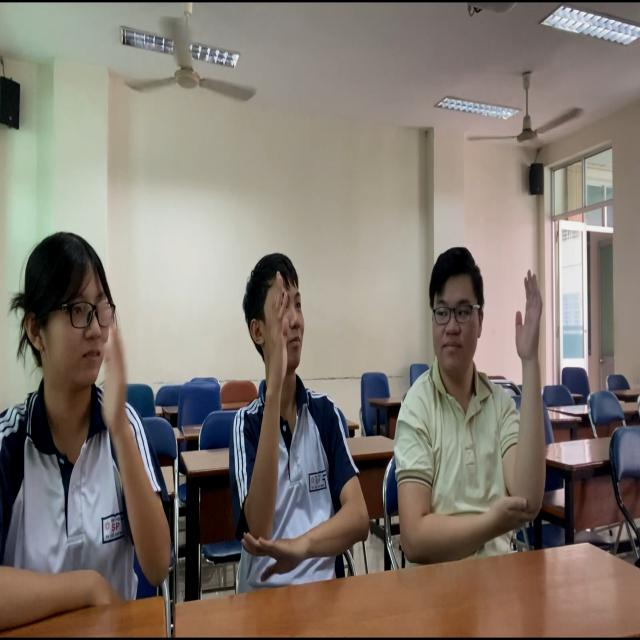raise_hand: (1, 216, 178, 640), (388, 228, 561, 584), (226, 238, 371, 603)
